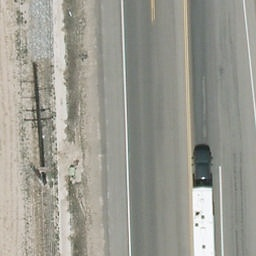car: (192, 146, 215, 185)
